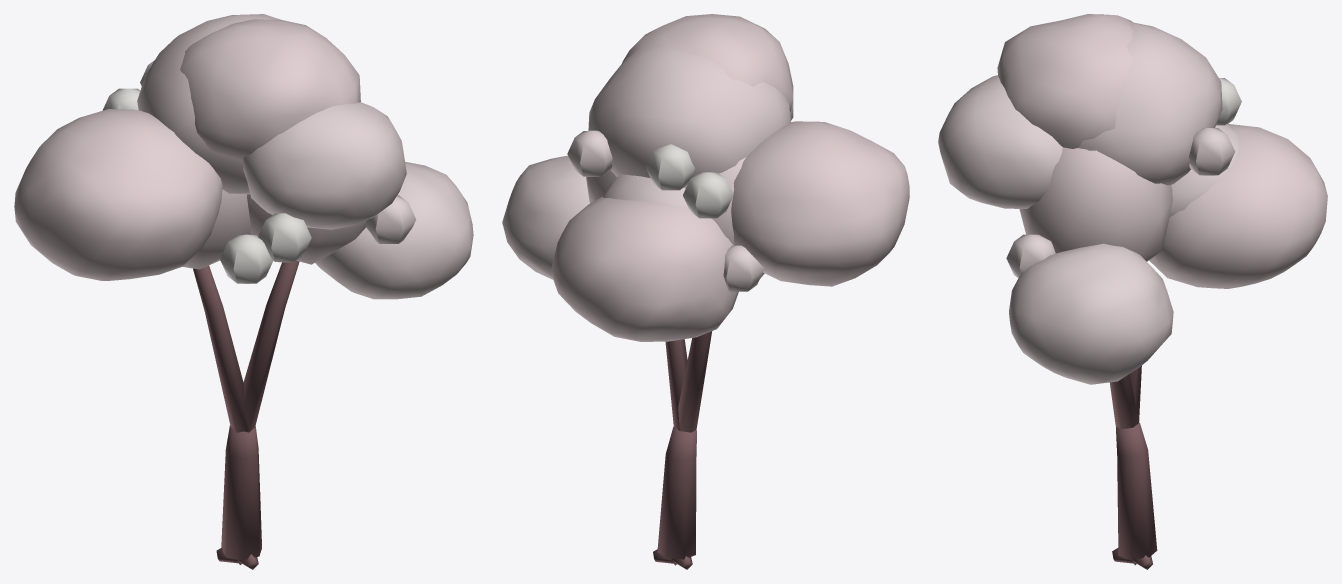
Rendered from crab_apple_b1.glb.
3 views of the same model, side by side, from view 1: azimuth 30°, elevation 25°; view 2: azimuth 150°, elevation 25°; view 3: azimuth 270°, elevation 25° (orthographic). The views are drawn at different scales.
Parts seen in each view (by area): view 1: crab_apple_b1; view 2: crab_apple_b1; view 3: crab_apple_b1.
Part boxes in pixels (bbox=[...]): crab_apple_b1: bbox=[14, 14, 473, 569]; crab_apple_b1: bbox=[502, 14, 909, 569]; crab_apple_b1: bbox=[938, 14, 1327, 569].
Size of what is drawn, in the model's own units: 4.77 by 6 by 3.94.
